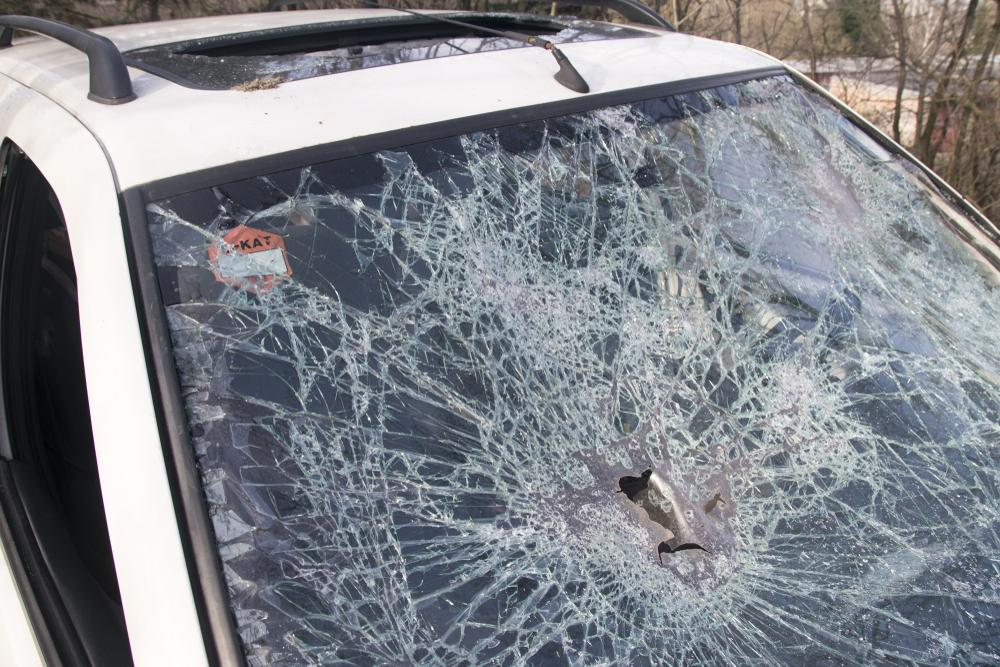glass shatter: (145, 73, 1000, 667)
